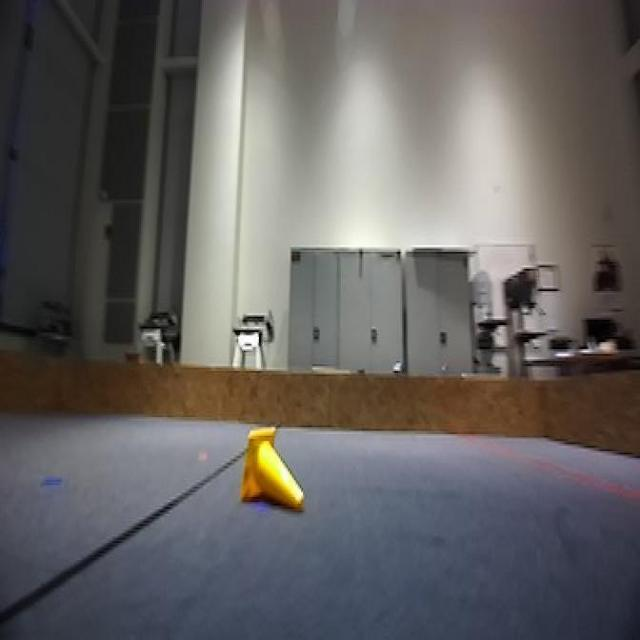frc_cone: (236, 427, 307, 516)
